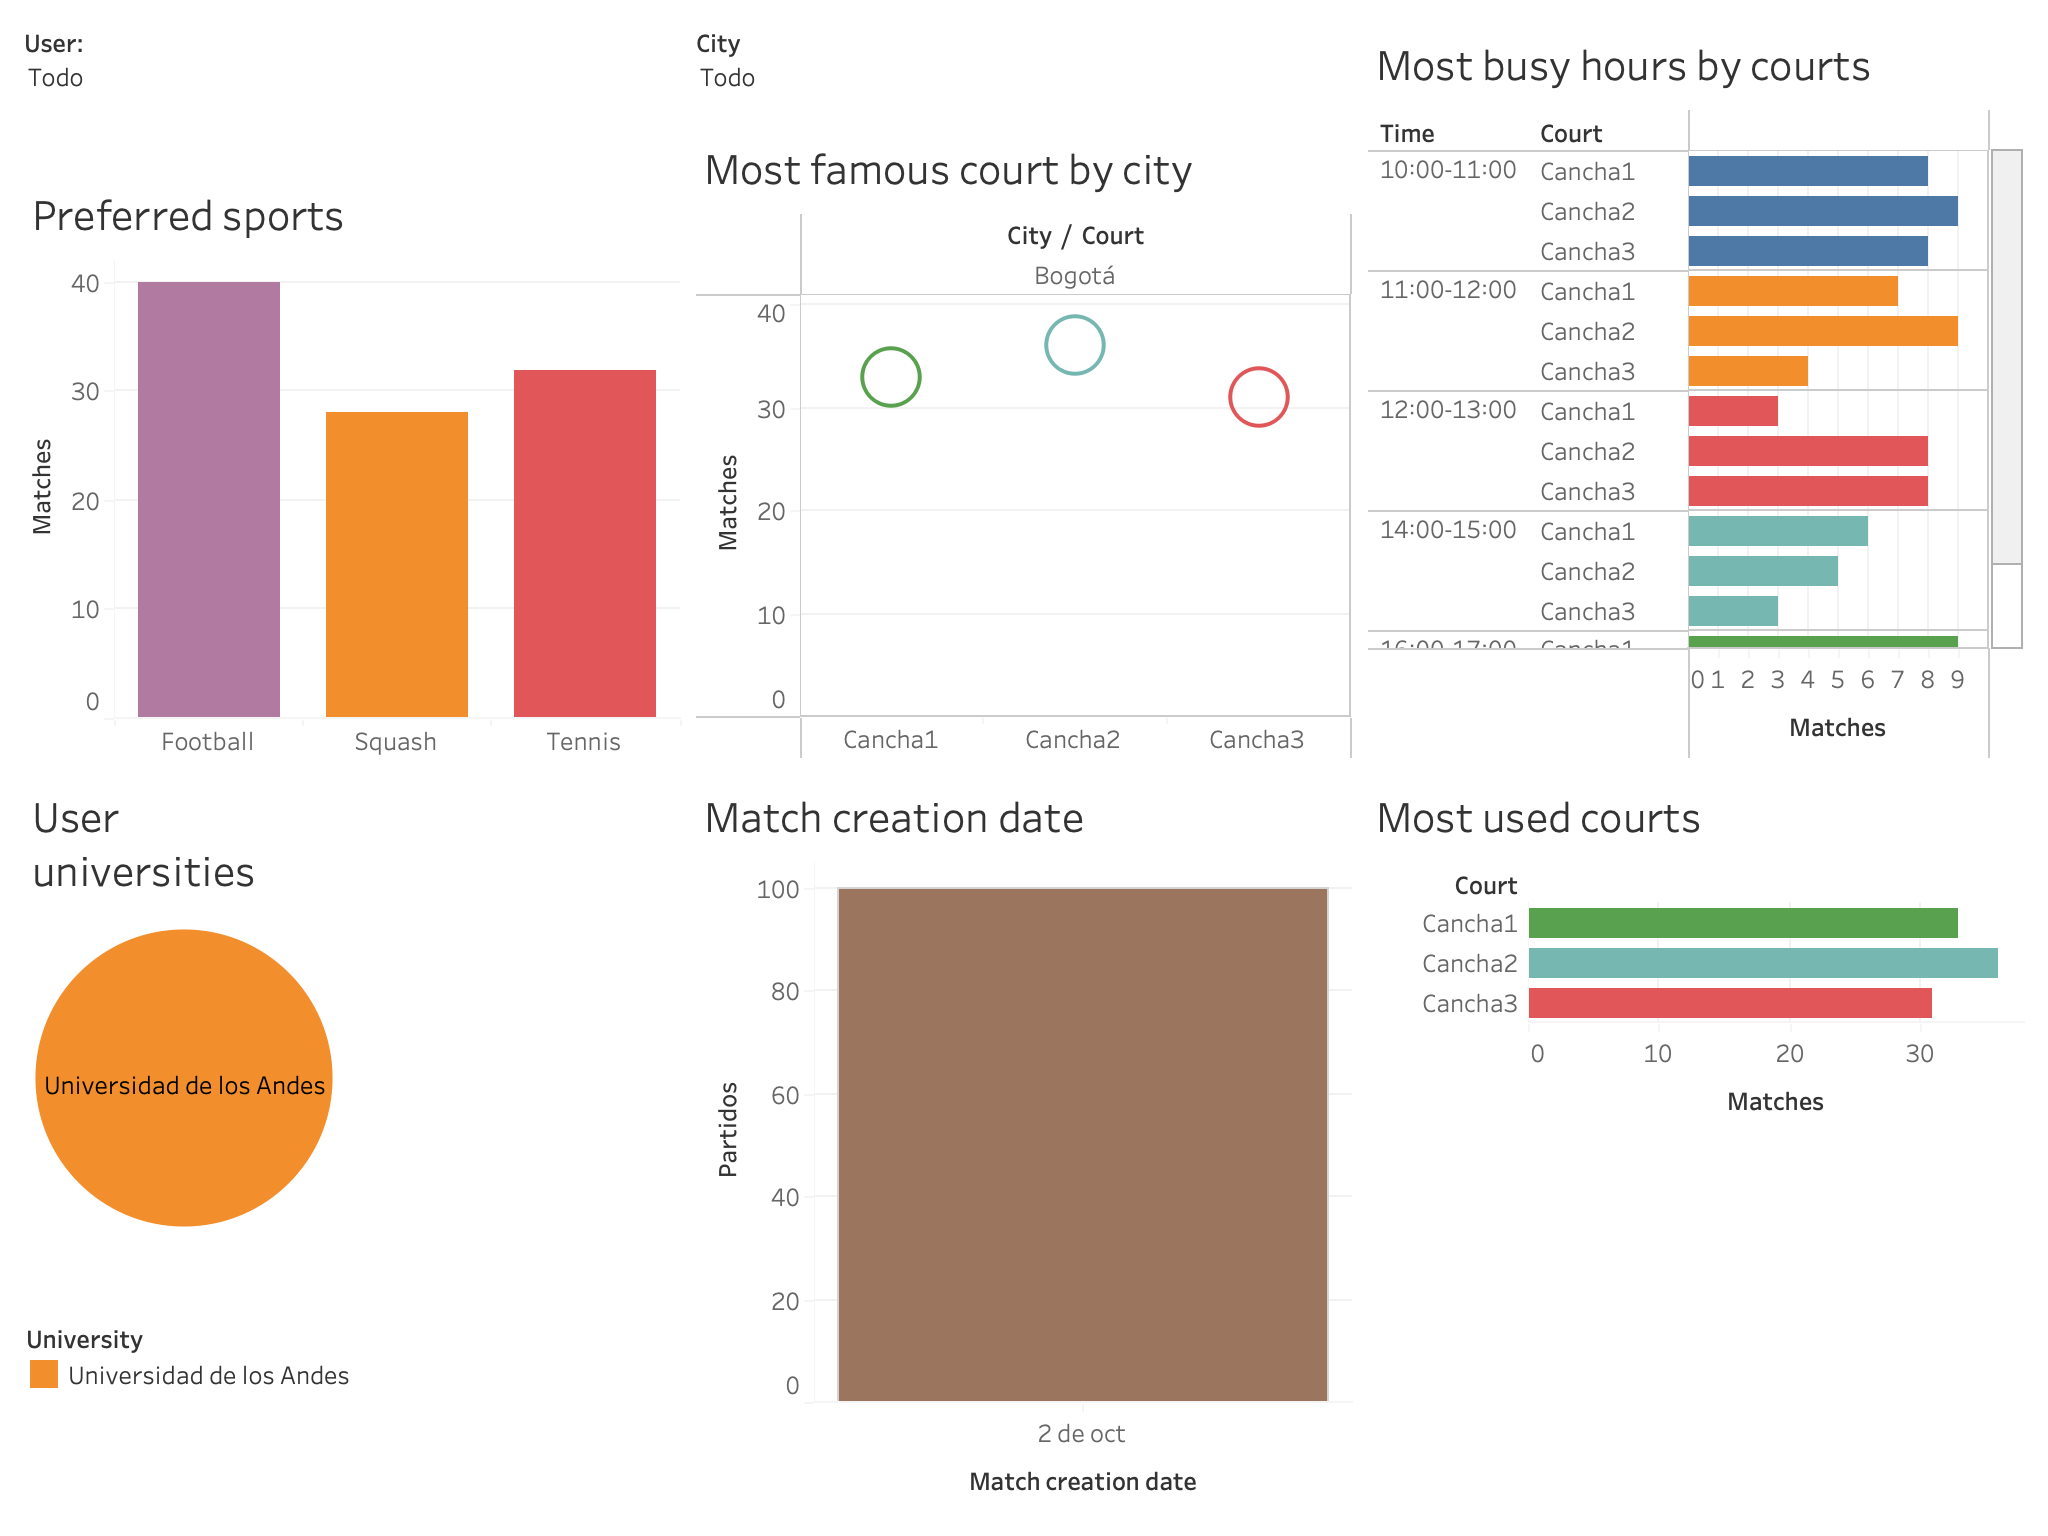

What the dashboard file says about the page in this screenshot:
{"tool":"tableau","page":{"name":"Dashboard","canvas":[1024,768],"ordinal":0},"visuals":[{"type":"filter","title":"Deporte preferido","param":"[federated.0ijh5yw1xc6bz410pojmg1usdb5n].[none:user_created_id:ok]","box":[8,8,336,75]},{"type":"filter","title":"Cancha mas concurrida por ciudad","param":"[federated.0ijh5yw1xc6bz410pojmg1usdb5n].[none:city:nk]","box":[344,8,336,52]},{"type":"worksheet","title":"Hora donde más se usan las canchas","mark":"Automatic","rows":["time","court"],"cols":["id (matches)"],"box":[680,8,336,376]},{"type":"worksheet","title":"Cancha mas concurrida por ciudad","mark":"Shape","rows":["id (matches)"],"cols":["city","court"],"box":[344,60,336,324]},{"type":"worksheet","title":"Deporte preferido","mark":"Automatic","rows":["id (matches)"],"cols":["name (sports)"],"box":[8,83,336,301]},{"type":"worksheet","title":"Universidad de los usuarios","mark":"Pie","box":[8,384,336,271]},{"type":"worksheet","title":"Fecha cuando se crearón los partidos","mark":"Bar","rows":["id (matches)"],"cols":["Calculation_1410189640712241155"],"box":[344,384,336,376]},{"type":"worksheet","title":"Cancha mas concurrida","mark":"Automatic","rows":["court"],"cols":["id (matches)"],"box":[680,384,336,376]},{"type":"legend","title":"Universidad de los usuarios","param":"[federated.0ijh5yw1xc6bz410pojmg1usdb5n].[none:university:nk]","box":[8,655,336,105]}]}

Visuals, with their boxes in screenshot pixels (x1, y1, x2, y2), scaled from the page's 1024x768 canvas onto the 2048x1536 screenshot:
"Deporte preferido" filter: pyautogui.locateOnScreen(16, 16, 688, 166)
"Cancha mas concurrida por ciudad" filter: pyautogui.locateOnScreen(688, 16, 1360, 120)
"Hora donde más se usan las canchas" worksheet: pyautogui.locateOnScreen(1360, 16, 2032, 768)
"Cancha mas concurrida por ciudad" worksheet (Shape marks): pyautogui.locateOnScreen(688, 120, 1360, 768)
"Deporte preferido" worksheet: pyautogui.locateOnScreen(16, 166, 688, 768)
"Universidad de los usuarios" worksheet (Pie marks): pyautogui.locateOnScreen(16, 768, 688, 1310)
"Fecha cuando se crearón los partidos" worksheet (Bar marks): pyautogui.locateOnScreen(688, 768, 1360, 1520)
"Cancha mas concurrida" worksheet: pyautogui.locateOnScreen(1360, 768, 2032, 1520)
"Universidad de los usuarios" legend: pyautogui.locateOnScreen(16, 1310, 688, 1520)
